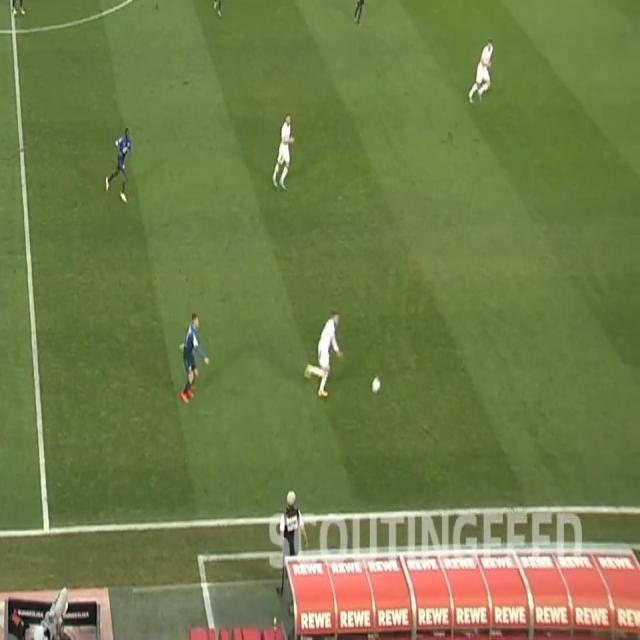ball: (371, 375, 382, 395)
